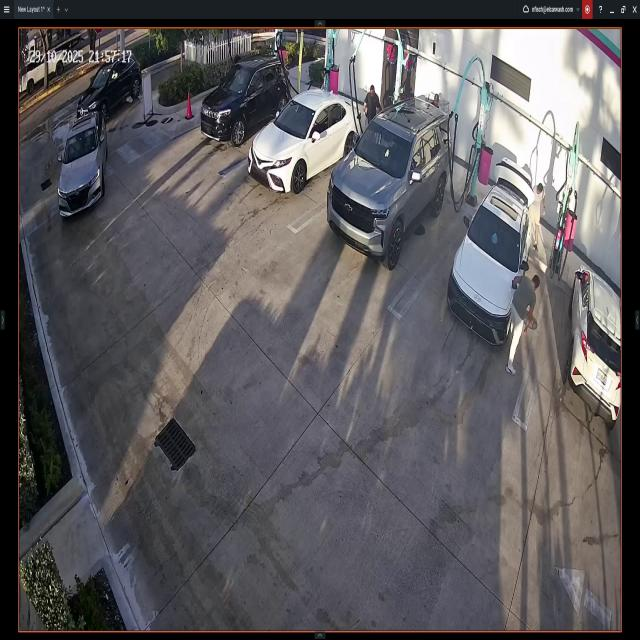Car: (329, 98, 450, 267), (451, 162, 538, 348), (250, 88, 362, 192), (198, 53, 290, 148), (567, 268, 619, 423), (60, 113, 106, 215), (78, 49, 143, 117)
